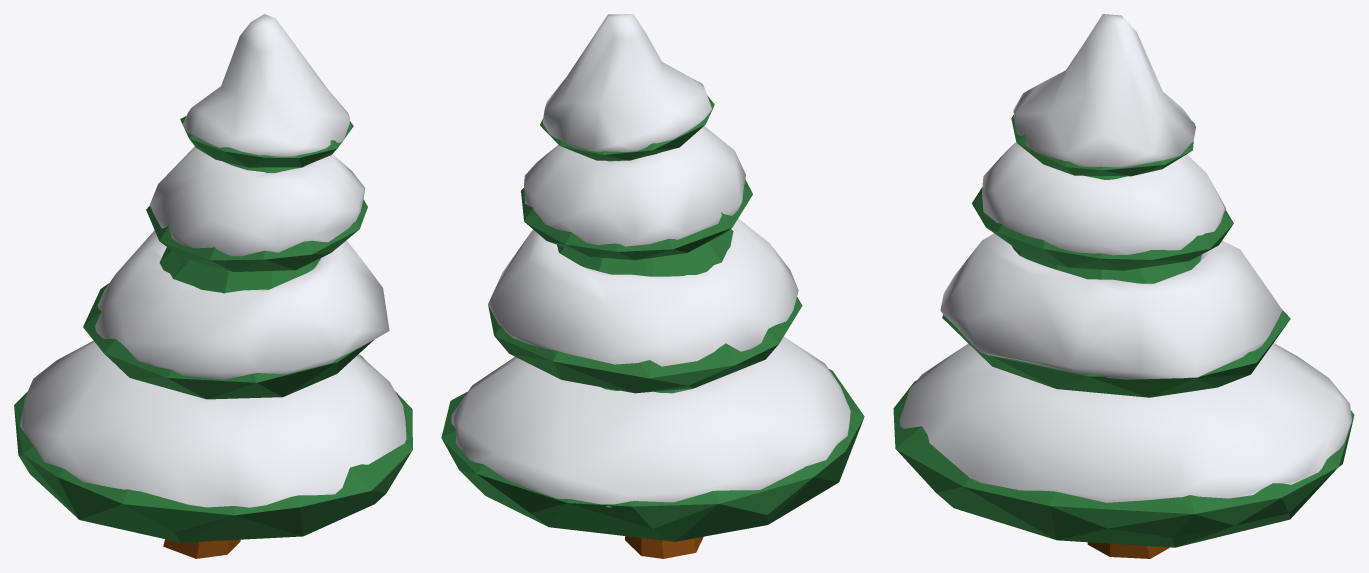
File: SnowTree1.glb
The picture shows the model from 3 angles, left to right: view 1: azimuth 30°, elevation 25°; view 2: azimuth 150°, elevation 25°; view 3: azimuth 270°, elevation 25°; orthographic projection. The views are drawn at different scales.
Parts seen in each view (by area): view 1: pine.001; view 2: pine.001; view 3: pine.001.
Part boxes in pixels (bbox=[...]): pine.001: bbox=[14, 14, 412, 558]; pine.001: bbox=[441, 14, 864, 558]; pine.001: bbox=[893, 14, 1354, 558].
Bounding box in the file's own units: 2.79 × 3.88 × 2.93.
